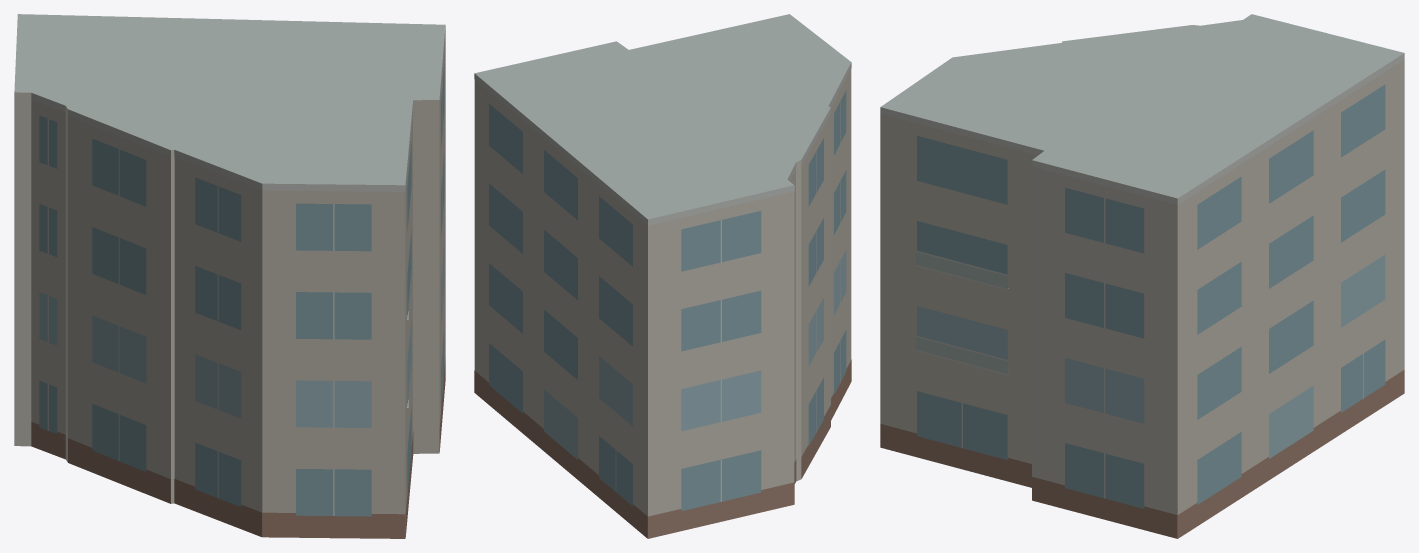
File: survey-upis-32835573.glb
The picture shows the model from 3 angles, left to right: view 1: azimuth 30°, elevation 25°; view 2: azimuth 150°, elevation 25°; view 3: azimuth 270°, elevation 25°; orthographic projection. The views are drawn at different scales.
Parts seen in each view (by area): view 1: survey-upis-32835573.tmp; view 2: survey-upis-32835573.tmp; view 3: survey-upis-32835573.tmp.
Boxes of the visible parts, left/top/right/bottom form: survey-upis-32835573.tmp: left=14, top=14, right=445, bottom=538; survey-upis-32835573.tmp: left=474, top=14, right=851, bottom=538; survey-upis-32835573.tmp: left=880, top=14, right=1404, bottom=538.
Size of the model in its own units: 14.77 by 12.7 by 17.74.
